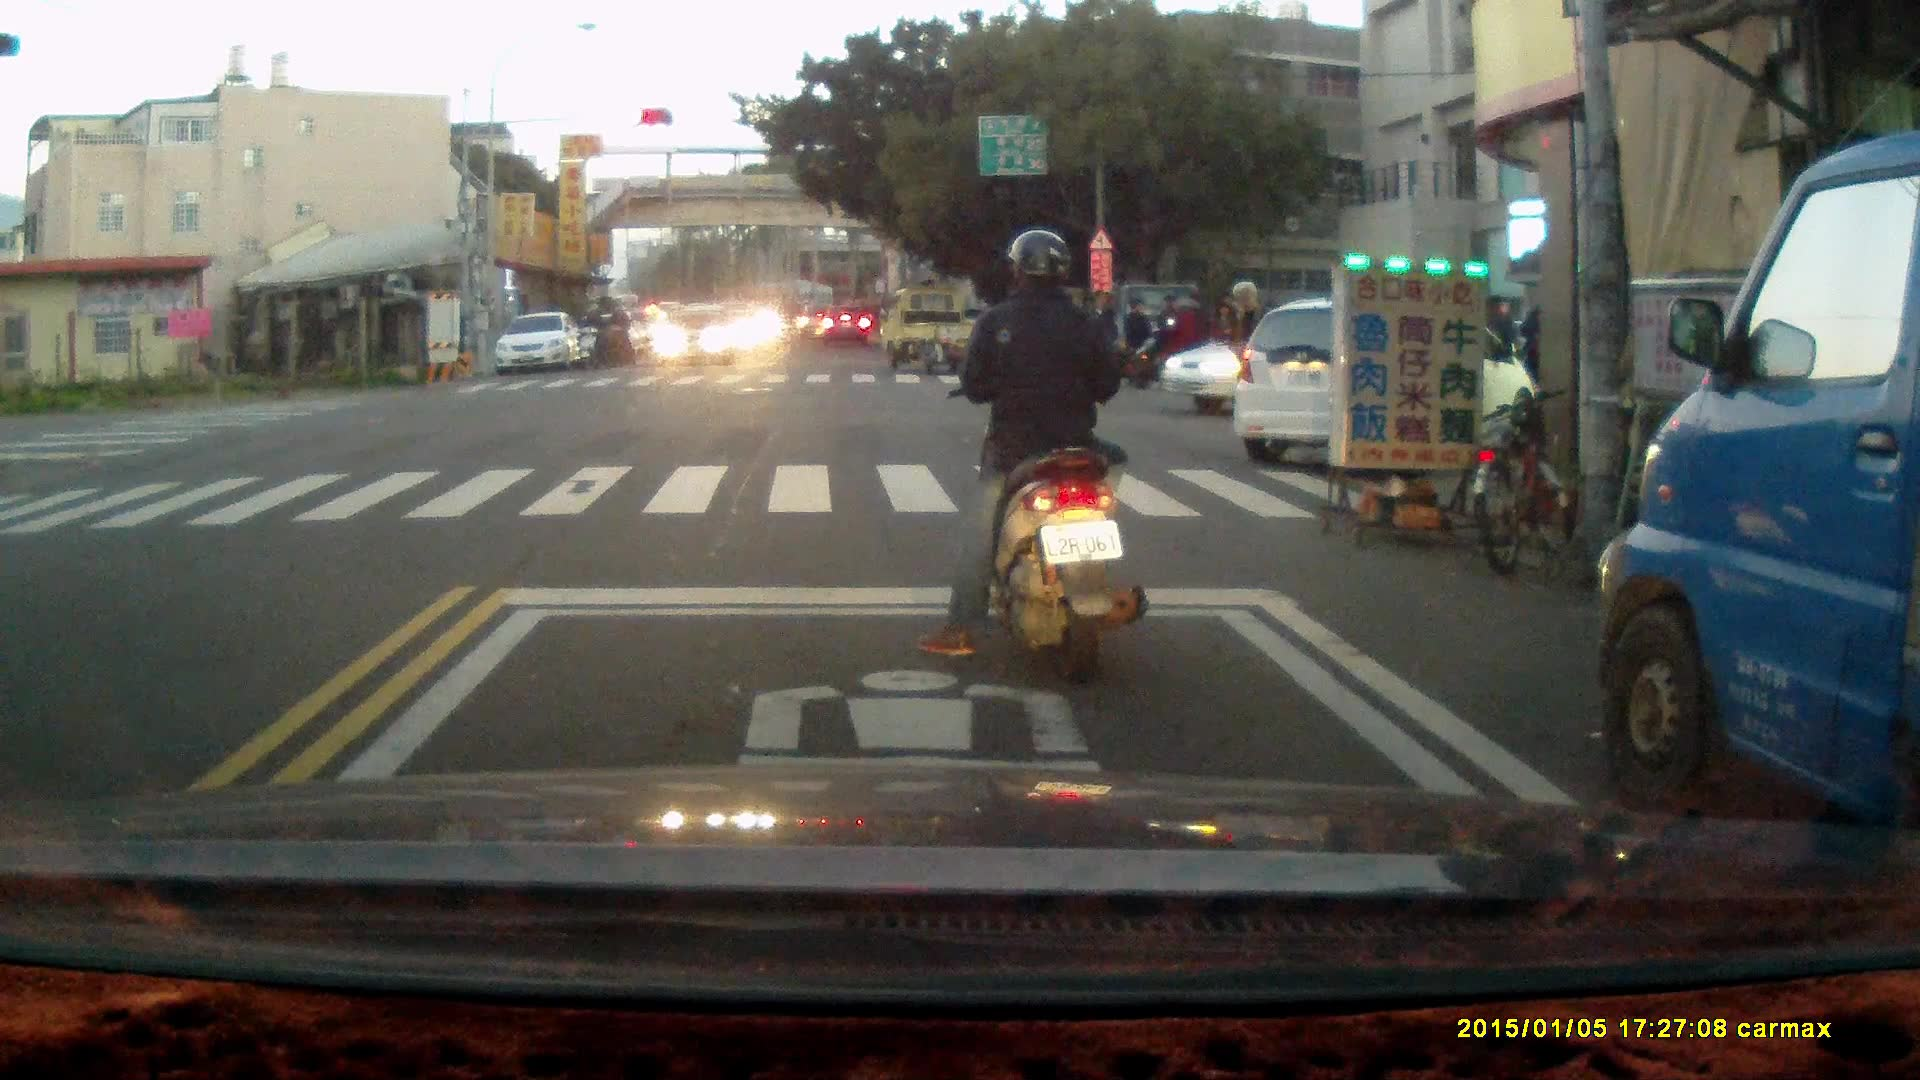pedestrian: (1226, 280, 1279, 438), (1480, 292, 1520, 391), (1116, 292, 1153, 391), (1207, 290, 1237, 390)
rider: (918, 232, 1149, 684), (1130, 295, 1210, 391), (577, 301, 612, 372), (599, 298, 634, 366)
vehicle: (1596, 120, 1920, 901), (1236, 303, 1533, 462), (1146, 306, 1421, 422), (879, 287, 1004, 378), (656, 301, 742, 371), (493, 311, 581, 377), (821, 304, 878, 350)
